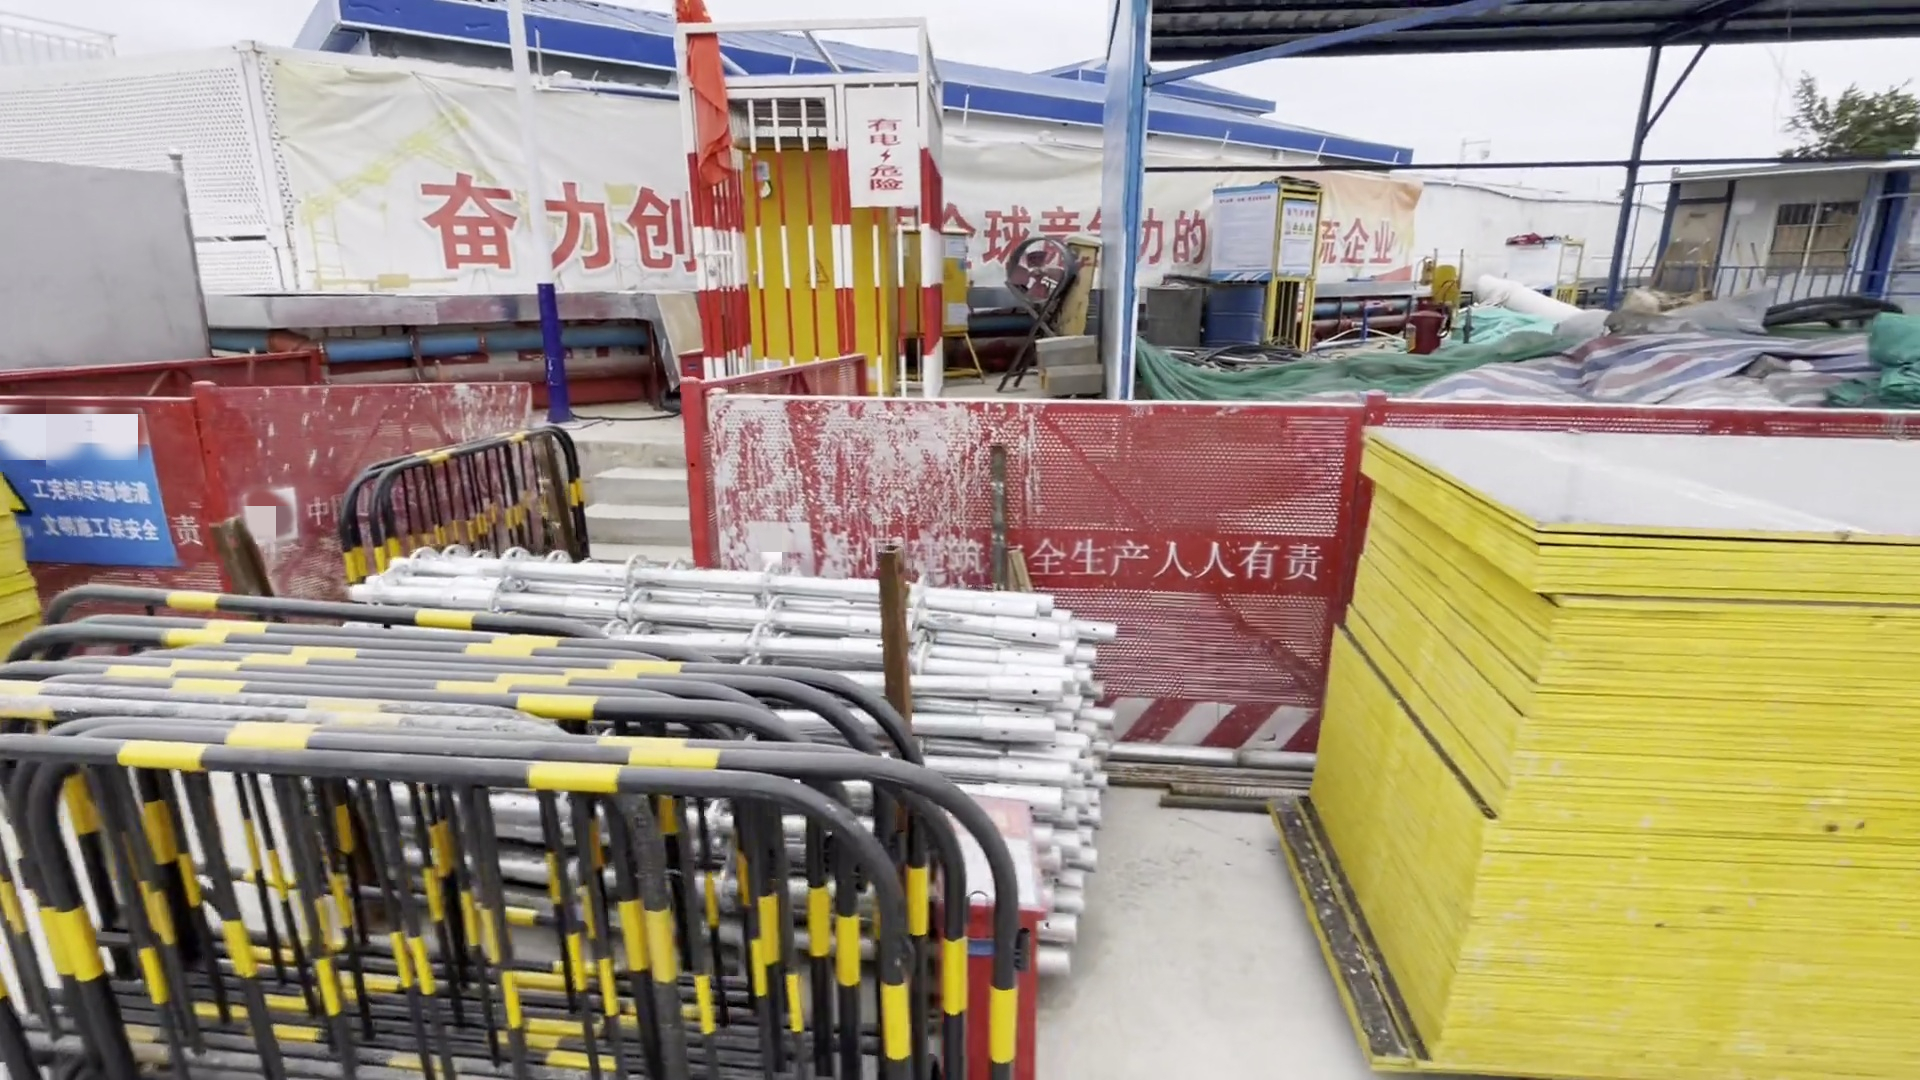board: (1284, 427, 1915, 1080)
ebox: (716, 150, 893, 404), (931, 222, 992, 382)
fence: (33, 679, 968, 1080), (687, 356, 1335, 712)
slogan: (414, 171, 684, 276), (989, 208, 1211, 268)
